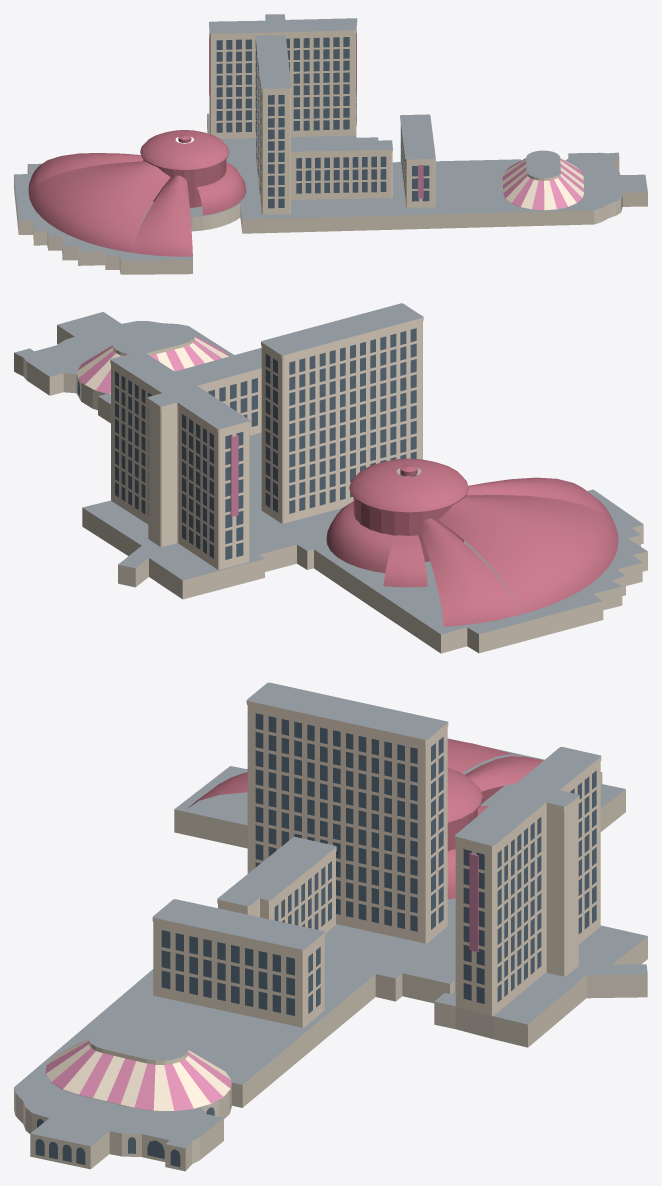
Rendered from detail.glb.
3 views of the same model, one above another, from view 1: azimuth 30°, elevation 25°; view 2: azimuth 150°, elevation 25°; view 3: azimuth 270°, elevation 25° (orthographic). The views are drawn at different scales.
Parts seen in each view (by area): view 1: circus-circus; view 2: circus-circus; view 3: circus-circus.
Boxes of the visible parts, x1,y1,x2,y2 form: circus-circus: (14,14,647,274); circus-circus: (14,303,647,653); circus-circus: (14,682,647,1171).
Size of the model in its own units: 421 by 108 by 274.
